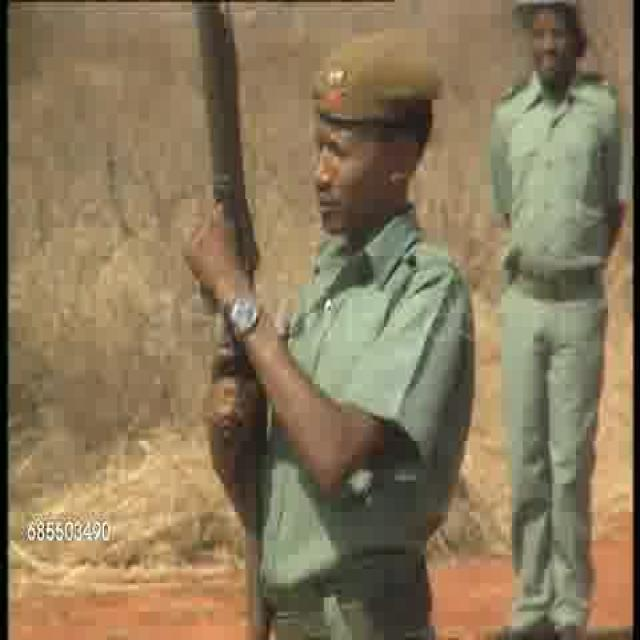poacher: (286, 1, 466, 622), (482, 1, 638, 552)
weapon: (198, 2, 274, 624)
